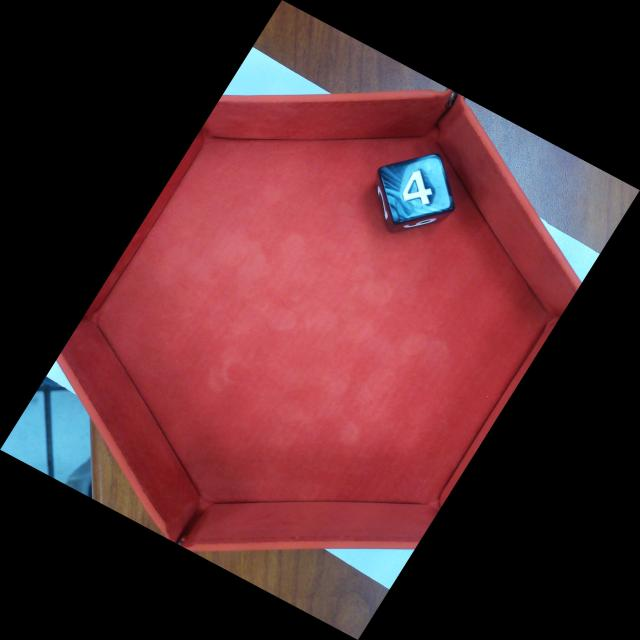dice: (381, 157, 454, 220)
